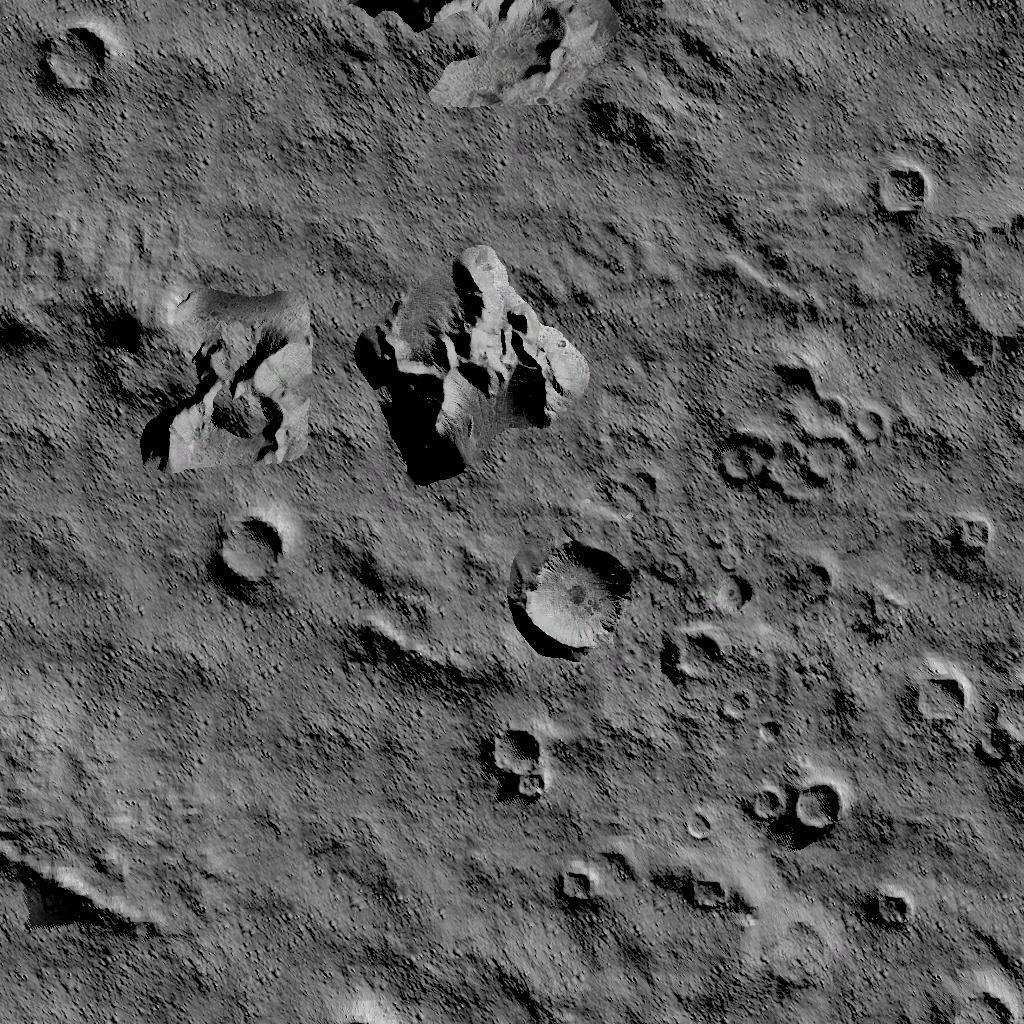Boulders: (351, 242, 588, 481), (134, 278, 310, 473), (384, 0, 607, 108)
Crater: (712, 347, 880, 489), (519, 540, 636, 652), (947, 196, 1024, 345), (212, 506, 290, 584), (28, 21, 110, 91), (747, 784, 845, 833), (486, 720, 551, 793), (932, 967, 1015, 1024), (974, 670, 1024, 754), (874, 153, 936, 211), (908, 667, 966, 721), (662, 624, 724, 674), (323, 984, 397, 1024), (946, 507, 998, 553), (712, 566, 758, 607), (552, 863, 596, 905), (869, 886, 914, 924), (688, 878, 733, 913), (682, 804, 716, 840), (725, 684, 751, 716)
Plan surface: (211, 652, 479, 954), (0, 488, 197, 807), (121, 0, 373, 192)
